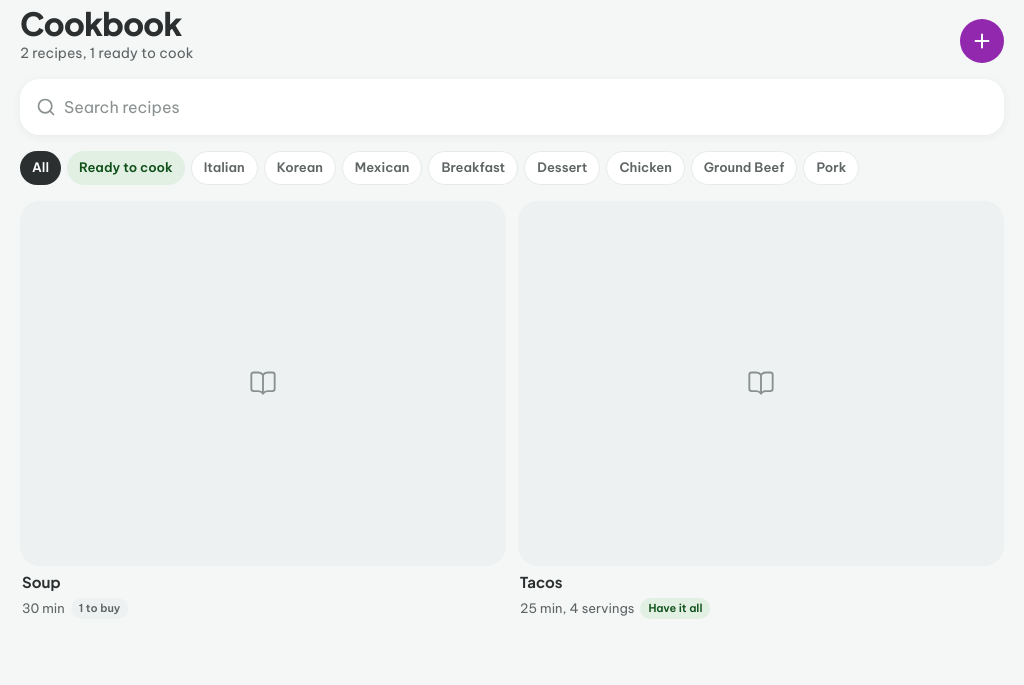
Test: CookbookPage › a pasted ingredient list is added after rows already typed
This screenshot has width=1024, height=685.
Expected: the text "Tacos" is shown, [518,572,564,592]
Click the button named "add a recipe" at (982, 41), box [960,19,1004,63]
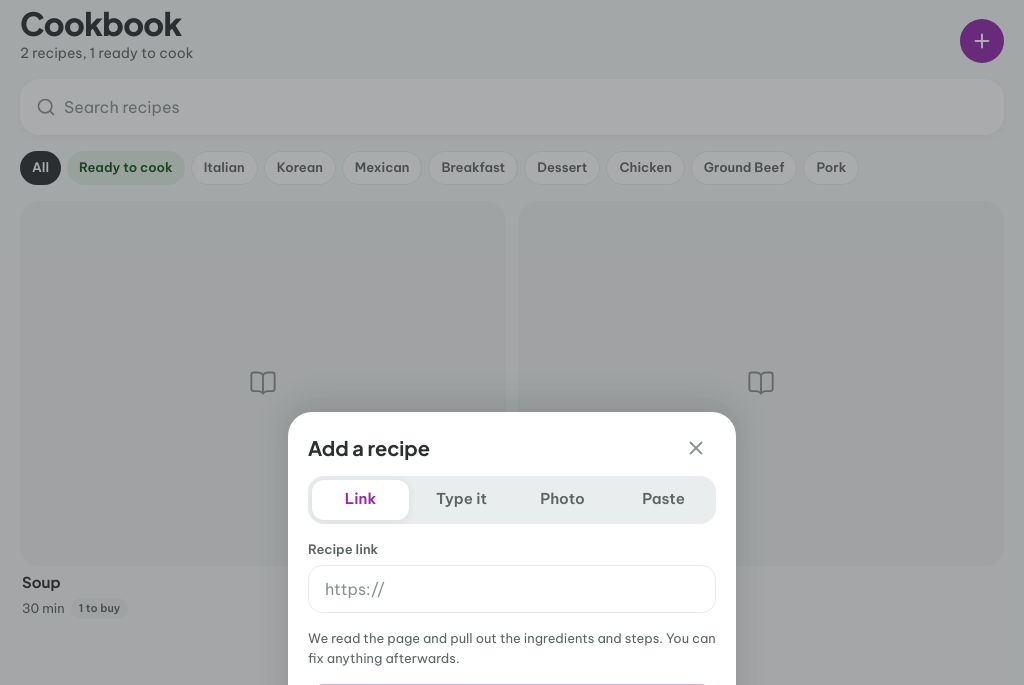
Click the tab "Type it" at (462, 500), box [413,480,510,520]
(page scrolled)
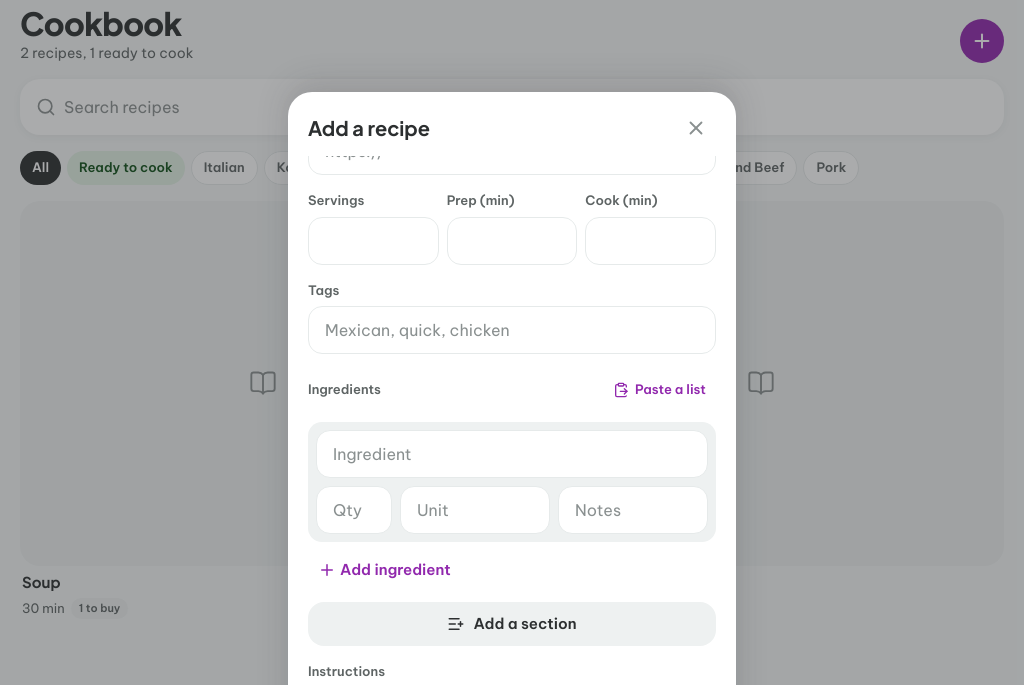
Type "typed thing" into the field named "Ingredient 1 name" at (512, 454), box [316,430,708,478]
(page scrolled)
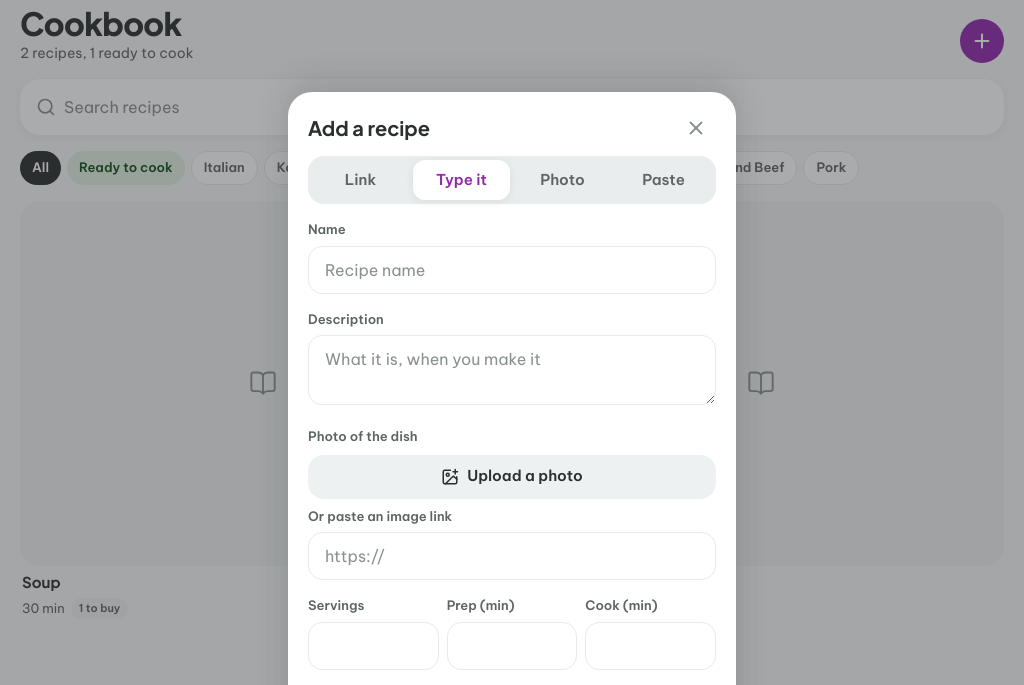
Click the tab "Paste" at (664, 180), box [615,160,712,200]
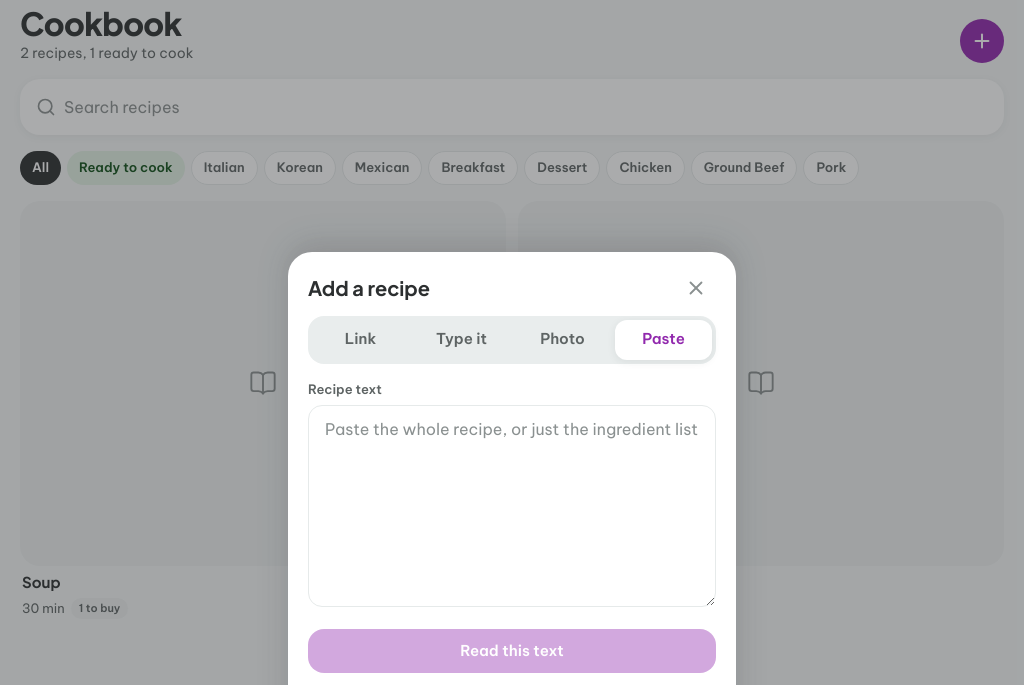
Type "2 cups flour 1 tsp salt" into the text box labelled "Recipe text" at (512, 506), box [308,405,716,607]
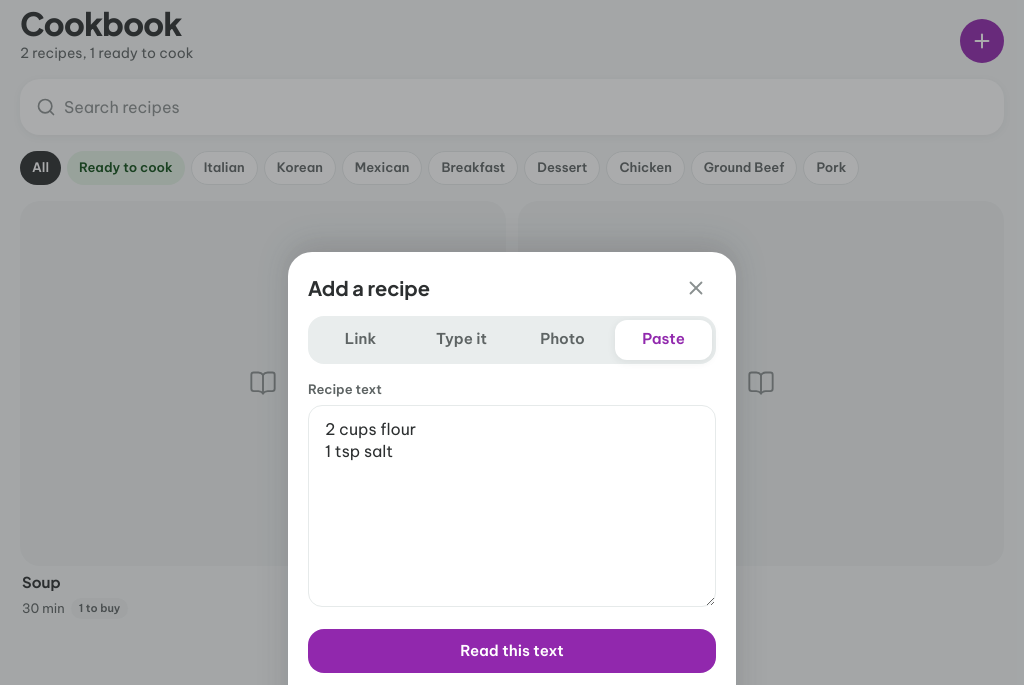
Click the button "Read this text" at (512, 651), box [308,629,716,673]
(page scrolled)
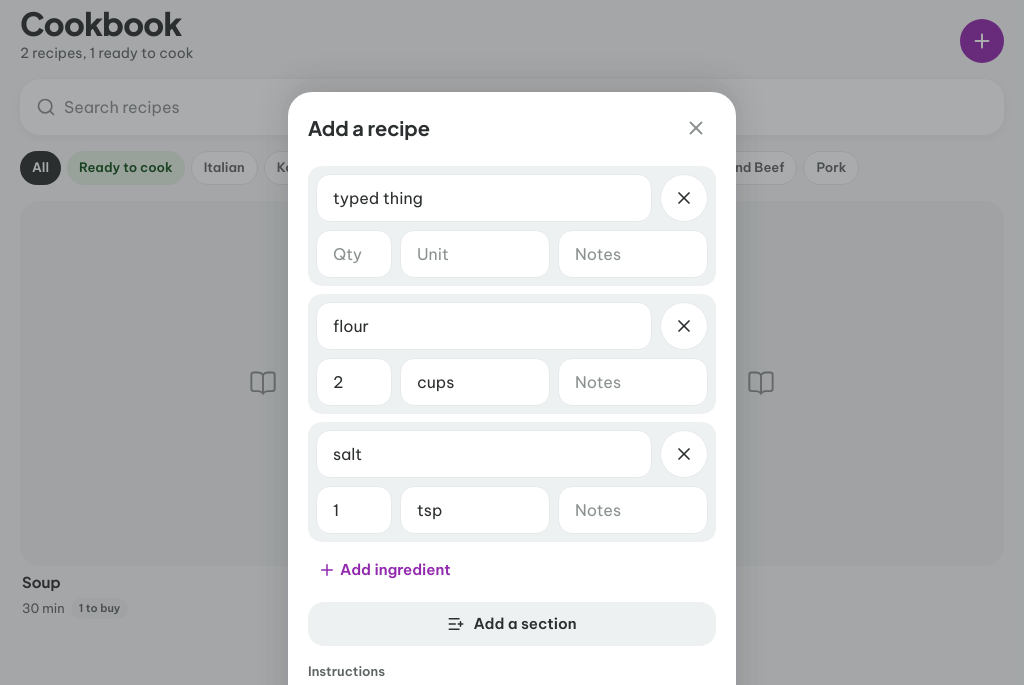
Expected: the field named "Ingredient 1 name" holds "typed thing", [316,174,652,222]
Expected: the field named "Ingredient 2 name" holds "flour", [316,302,652,350]
Expected: the field named "Ingredient 3 name" holds "salt", [316,430,652,478]
